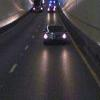Car: (38, 21, 71, 50)
